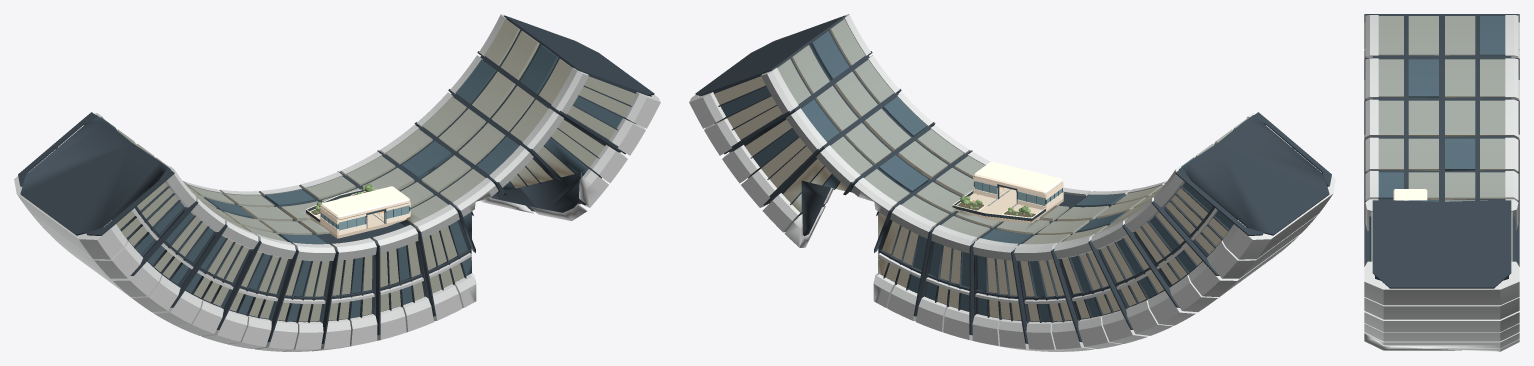
The model's file is ring-transfer-2127.glb.
The picture shows the model from 3 angles, left to right: view 1: azimuth 30°, elevation 25°; view 2: azimuth 150°, elevation 25°; view 3: azimuth 270°, elevation 25°; orthographic projection. The views are drawn at different scales.
Visible parts, largest first — view 1: lower_graphite, lower_glazing, lower_ceramic, lower_shadow_glazing, Concourse_ceramic, Concourse_floor, Concourse_glazing; view 2: lower_glazing, lower_ceramic, lower_graphite, lower_shadow_glazing, Concourse_ceramic, Concourse_floor, Concourse_graphite, Concourse_glazing; view 3: lower_graphite, lower_glazing, lower_ceramic, lower_shadow_glazing, Concourse_ceramic.
Part boxes in pixels (x1,y1,x2,y2): lower_graphite: (18, 15, 654, 343); lower_glazing: (116, 19, 635, 321); lower_ceramic: (14, 14, 660, 351); lower_shadow_glazing: (101, 45, 622, 321); Concourse_ceramic: (306, 186, 410, 235); Concourse_floor: (305, 195, 406, 238); Concourse_glazing: (321, 205, 409, 230); lower_glazing: (714, 19, 1248, 321); lower_ceramic: (689, 14, 1335, 351); lower_graphite: (695, 15, 1331, 343); lower_shadow_glazing: (720, 31, 1233, 321); Concourse_ceramic: (952, 161, 1063, 218); Concourse_floor: (956, 187, 1063, 222); Concourse_graphite: (952, 181, 1062, 221); Concourse_glazing: (973, 181, 1062, 205); lower_graphite: (1364, 14, 1519, 288); lower_glazing: (1371, 16, 1512, 261); lower_ceramic: (1364, 15, 1519, 351); lower_shadow_glazing: (1378, 16, 1505, 201); Concourse_ceramic: (1393, 189, 1427, 200).
Size of the model in its own units: 181 by 68.09 by 45.
